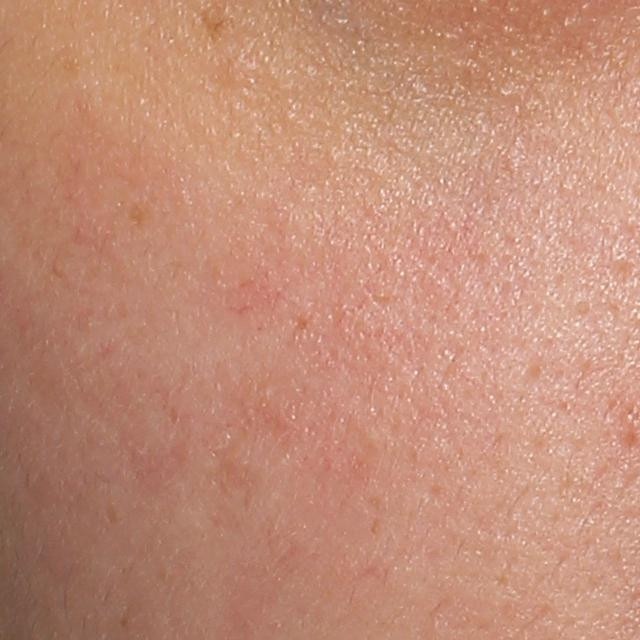melasma: (193, 1, 235, 49)
